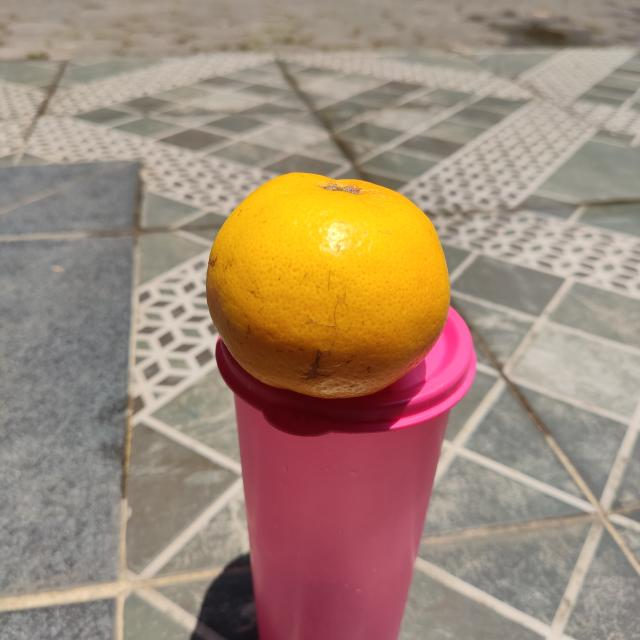orange: (204, 172, 451, 404)
